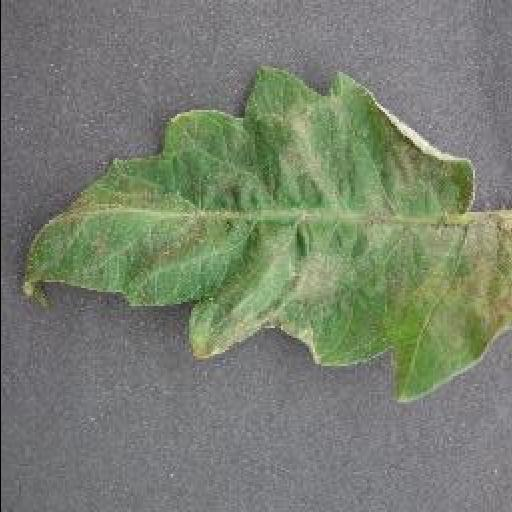disease_tomato: (18, 60, 512, 406)
